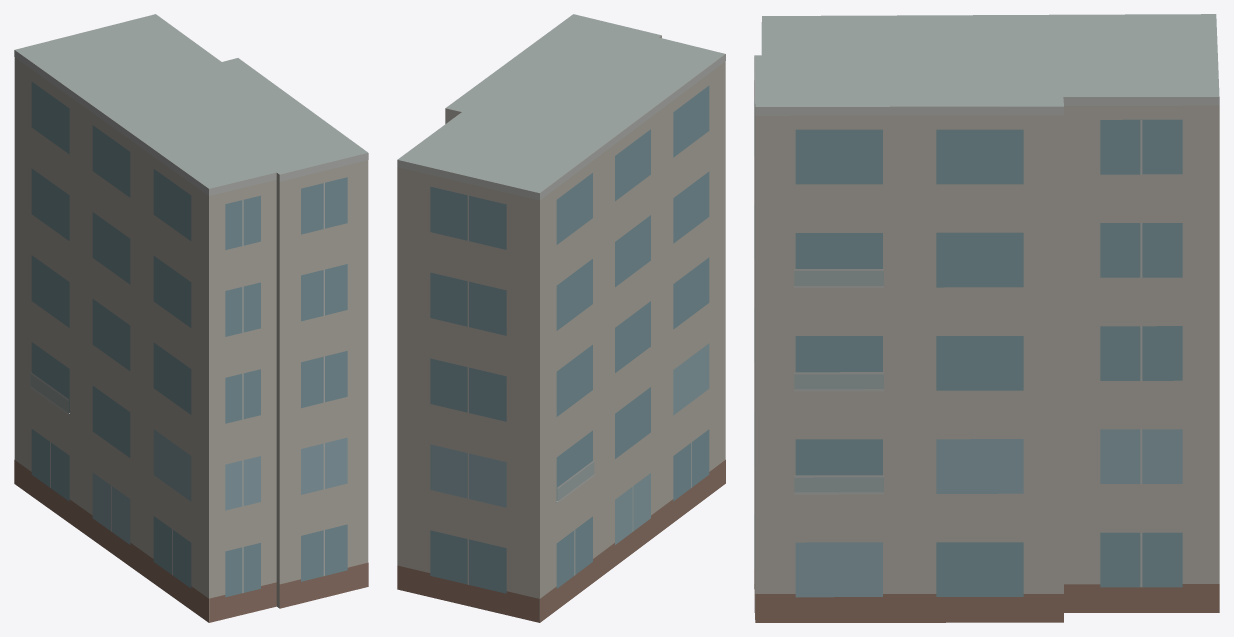
The model's file is survey-upis-32606986.glb.
3 views of the same model, side by side, from view 1: azimuth 30°, elevation 25°; view 2: azimuth 150°, elevation 25°; view 3: azimuth 270°, elevation 25° (orthographic). The views are drawn at different scales.
Visible parts, largest first — view 1: survey-upis-32606986.tmp; view 2: survey-upis-32606986.tmp; view 3: survey-upis-32606986.tmp.
Boxes of the visible parts, x1,y1,x2,y2 form: survey-upis-32606986.tmp: (14, 14, 368, 622); survey-upis-32606986.tmp: (397, 14, 725, 622); survey-upis-32606986.tmp: (754, 14, 1219, 622).
Size of the model in its own units: 5.7 by 14.6 by 11.94.
